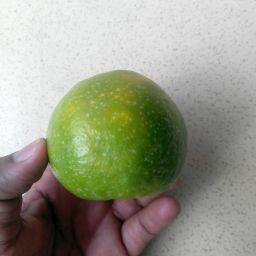Unripe: (49, 69, 191, 199)
